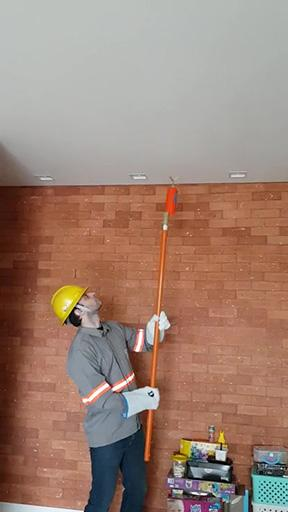Detector_Tensao_Contato: (163, 174, 181, 218)
Vara_Manobra: (143, 213, 170, 461)
